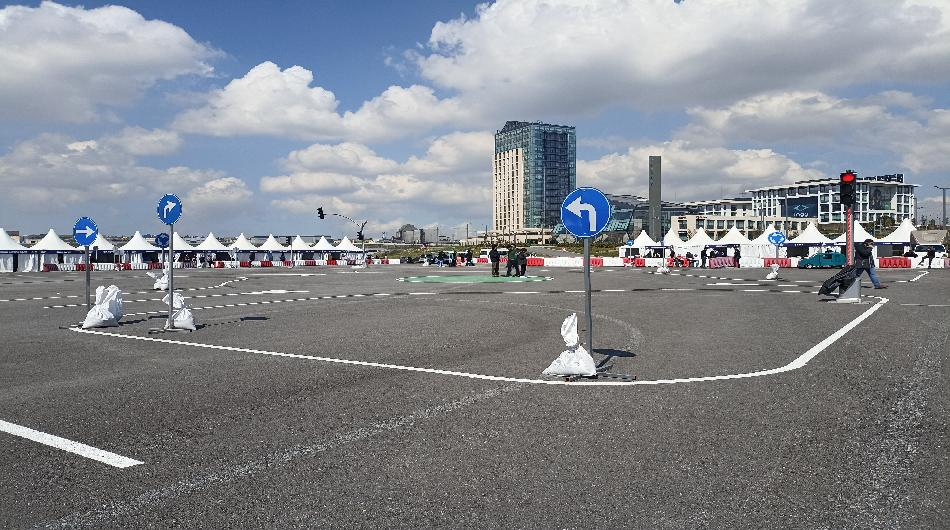red_light: (835, 169, 859, 211)
saga_mecburi_1: (74, 214, 101, 248)
saga_mecburi_2: (151, 193, 184, 227)
sola_mecburi_2: (562, 185, 611, 235)
